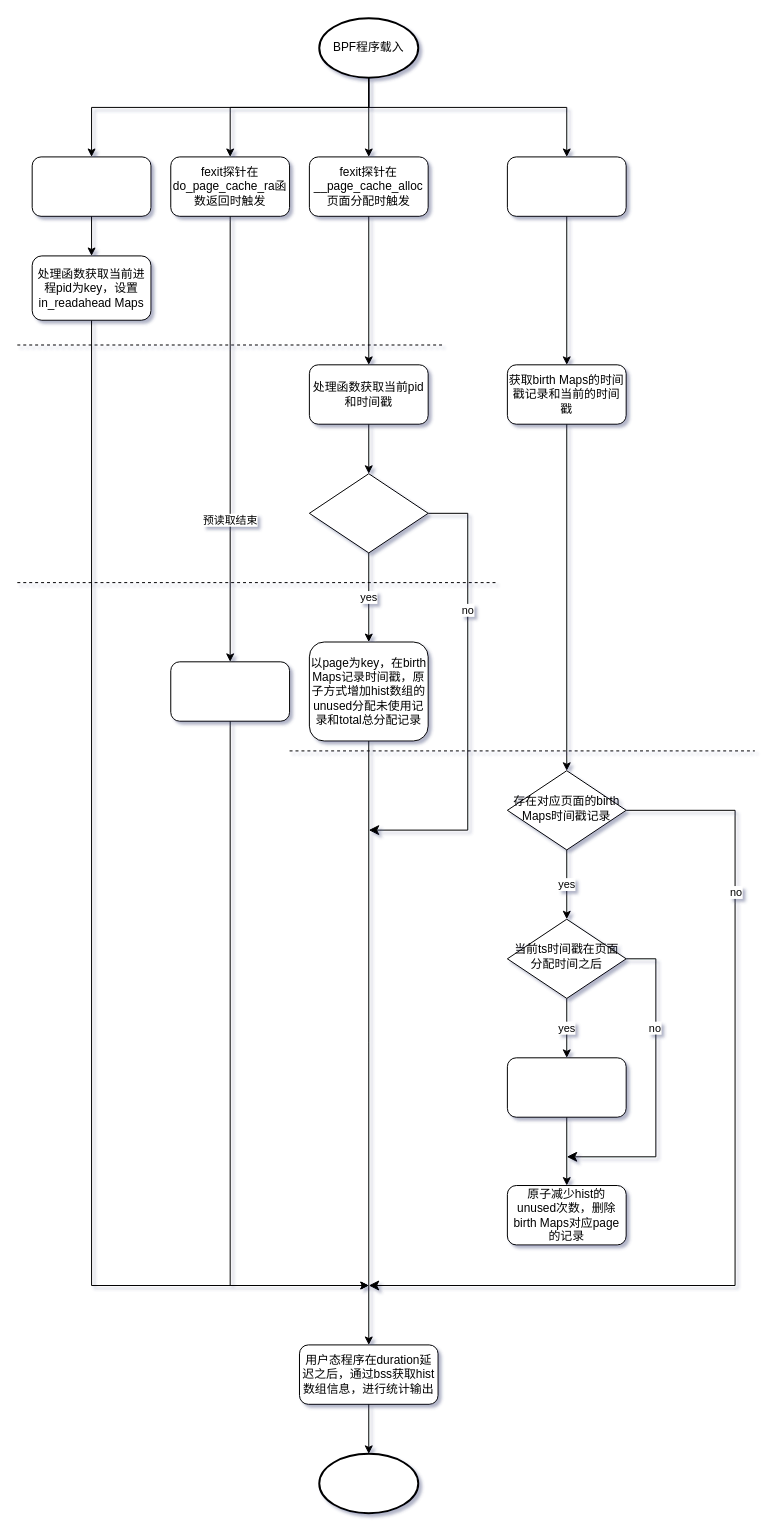
Image size: 779x1536. Some labels were removed from this diagram. The centre of each missing label's shape, as x and y in pixels:
fentry探针在do_page_cache_ra预读取发生时触发: the point at 91,186
fentry探针在mark_page_accessed页面被访问时触发: the point at 566,186
原子方式增加hist数组的slots直方图时间区间的计数: the point at 566,1087
处理函数获取进程pid，删除in_readahead Maps的对应值记录: the point at 230,691
存在in_readahead对应进程的预读取记录: the point at 368,513
流程结束，等待下次事件发生: the point at 368,1483
